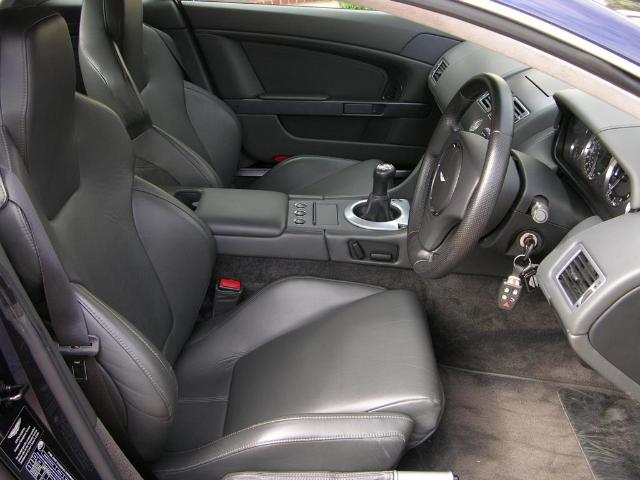Seatbelt: (0, 166, 152, 473)
